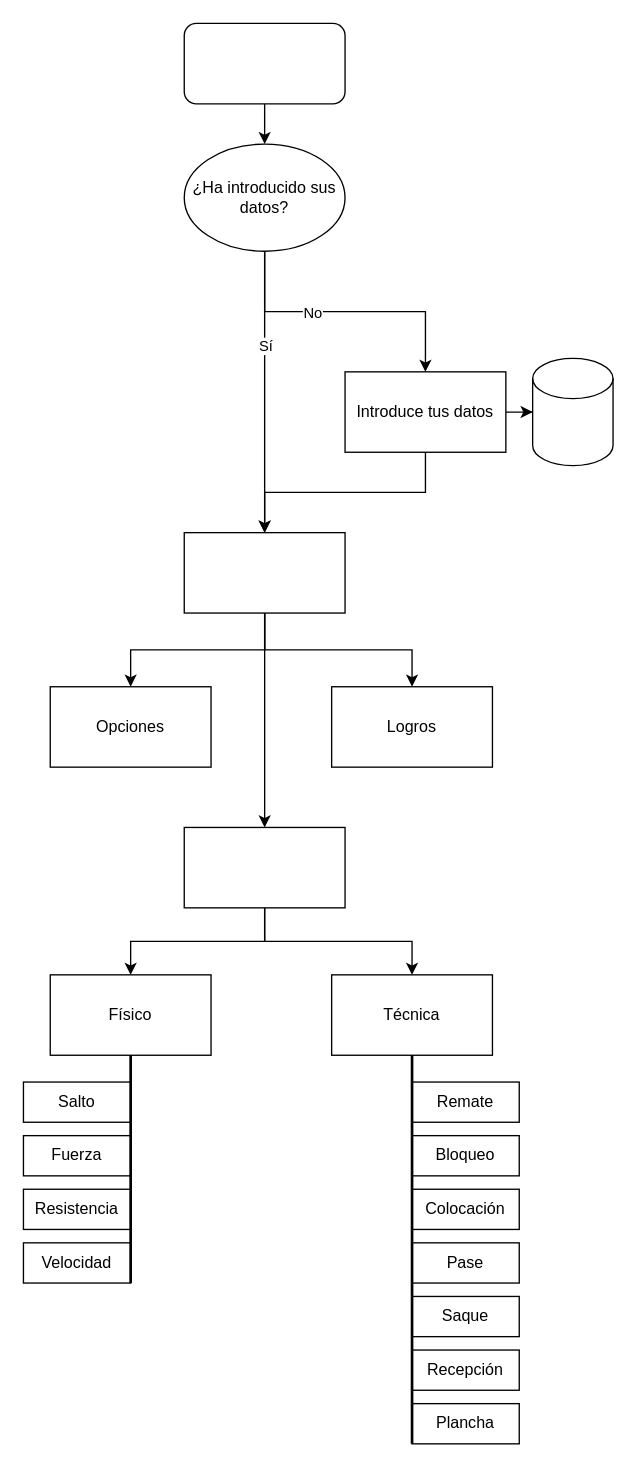
Some shapes in this 637 by 1469 pixel diagram are drawn without their labels. Each missing label, with the centre of its shape:
"Edad Peso Estatura" goes at [572,411].
"Entrenamiento" goes at [264,867].
"Inicio" goes at [264,572].
"Volley App" goes at [264,63].
